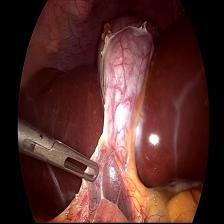Grasper: (32, 122, 102, 188)
